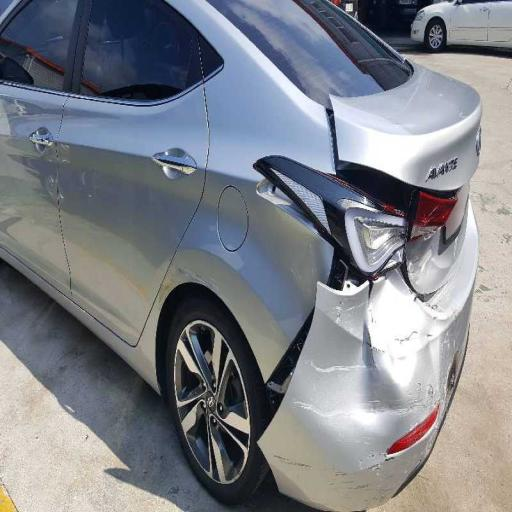broken: (260, 49, 438, 512)
